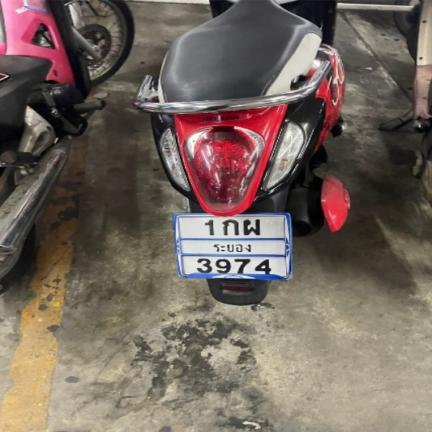1: (201, 218, 215, 236)
3: (194, 258, 212, 273)
4: (253, 257, 274, 274)
7: (233, 258, 251, 274)
9: (214, 258, 232, 274)
A01: (220, 218, 240, 237)
A28: (242, 218, 261, 237)
RYG: (211, 241, 253, 253)
